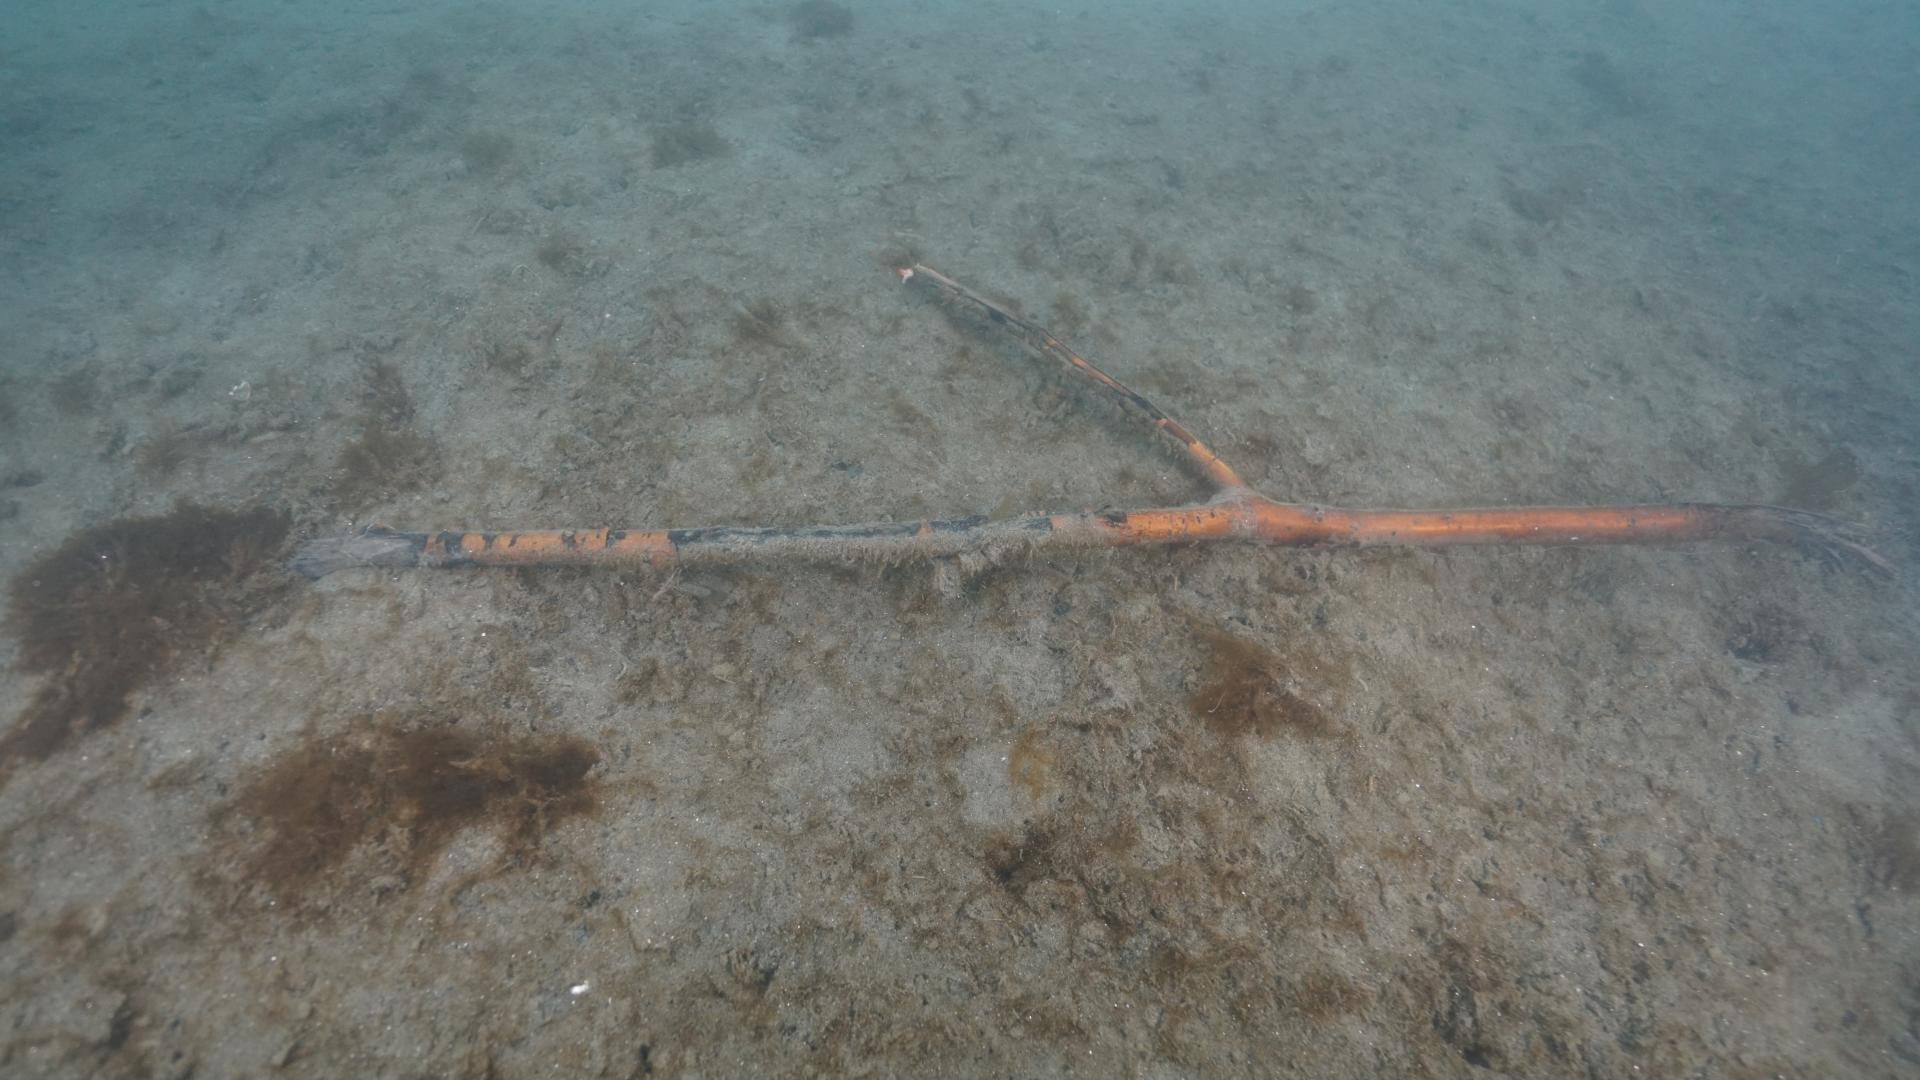wood: (294, 251, 1880, 583)
